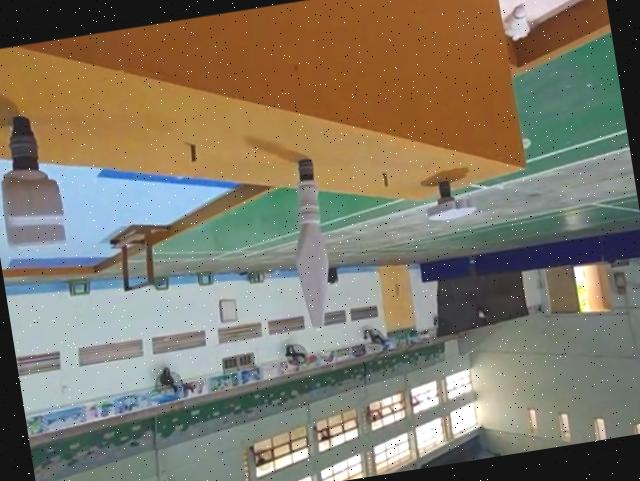Fist: (0, 110, 70, 255)
Hand: (421, 177, 474, 223)
Sph: (273, 149, 342, 330)
